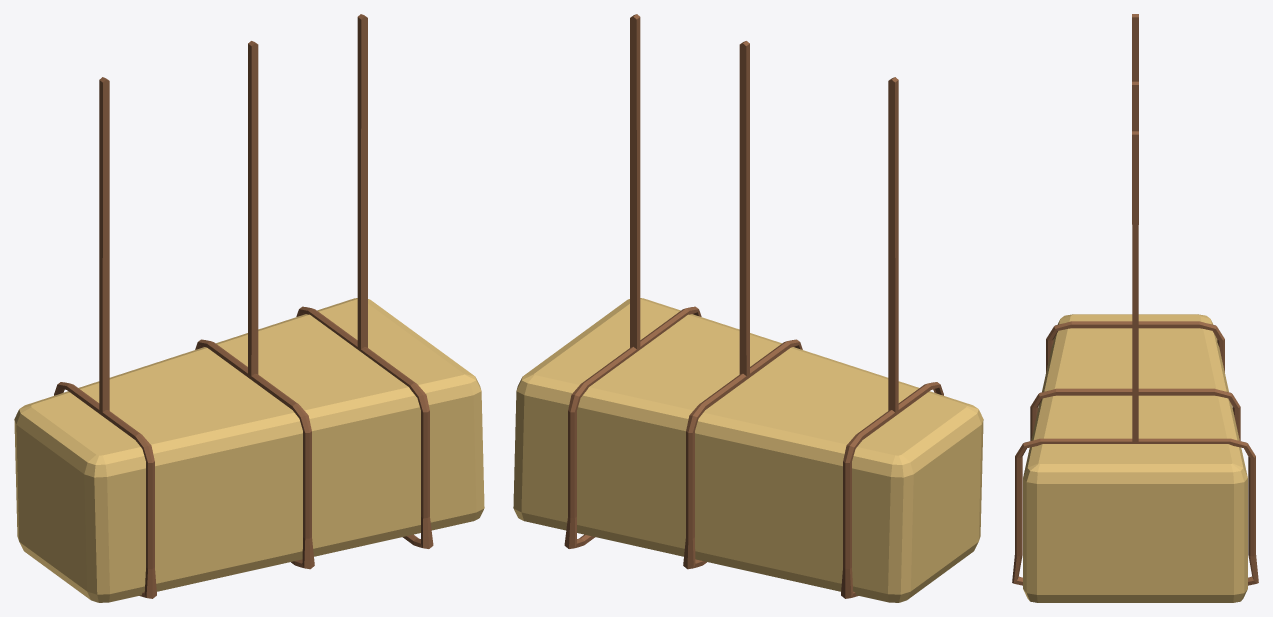
Rendered from Bigsmasher.fbx.
3 renders of one model, left to right at view 1: azimuth 30°, elevation 25°; view 2: azimuth 150°, elevation 25°; view 3: azimuth 270°, elevation 25°, orthographic. The views are drawn at different scales.
Visible parts, largest first — view 1: Cylinder.011; view 2: Cylinder.011; view 3: Cylinder.011.
Part boxes in pixels (box(x1,y1,x2,y2)): Cylinder.011: box(14, 14, 484, 602); Cylinder.011: box(513, 14, 983, 602); Cylinder.011: box(1012, 14, 1258, 602).
Bounding box in the file's own units: 485 × 600 × 293.
